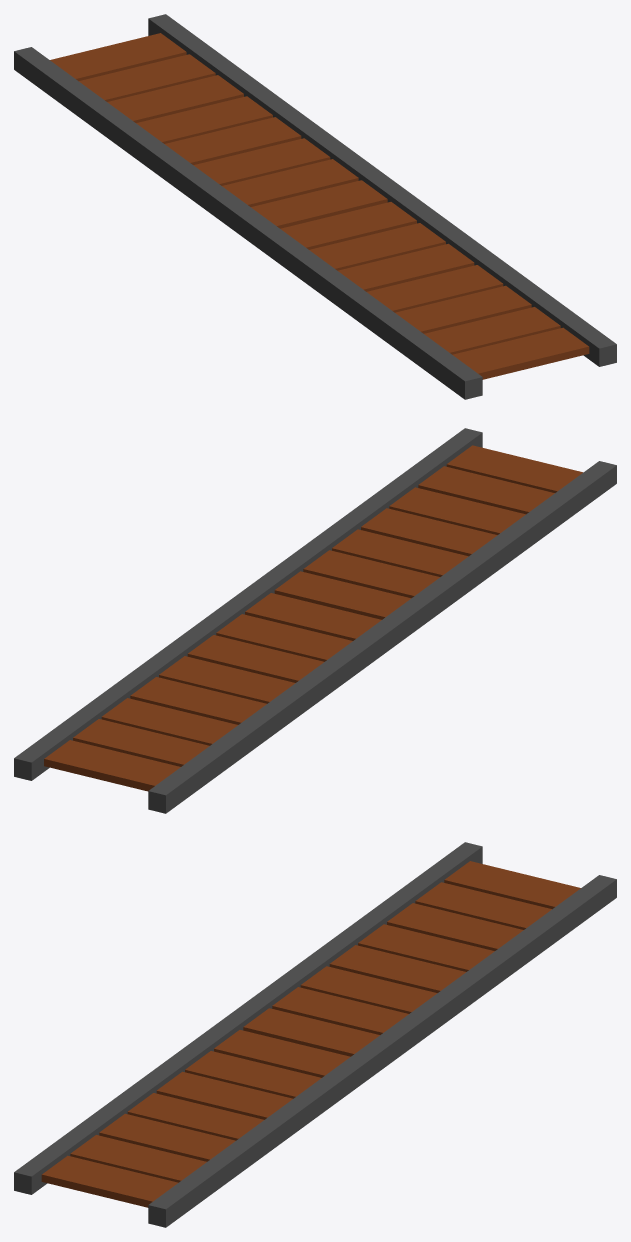
Rendered from Brigh.fbx.
The picture shows the model from 3 angles, top to bottom: view 1: azimuth 30°, elevation 25°; view 2: azimuth 150°, elevation 25°; view 3: azimuth 330°, elevation 25°; orthographic projection.
Visible parts, largest first — view 1: Cube; view 2: Cube; view 3: Cube.
Boxes of the visible parts, <box> form: Cube: <box>14,14,616,399</box>; Cube: <box>14,428,616,813</box>; Cube: <box>14,842,616,1227</box>.
Bounding box in the file's own units: 378 × 43.91 × 1942.
